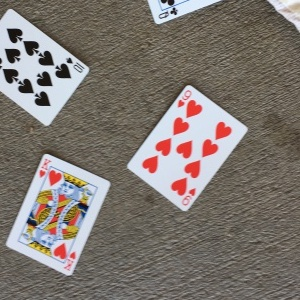card: (127, 85, 250, 215), (4, 152, 112, 277)
